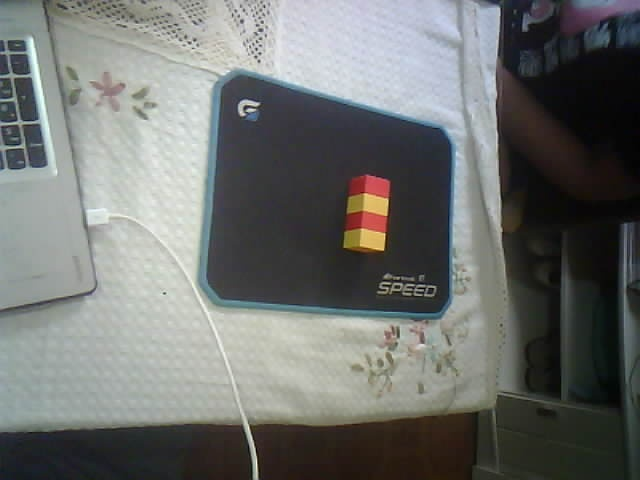lego: (341, 173, 390, 255)
